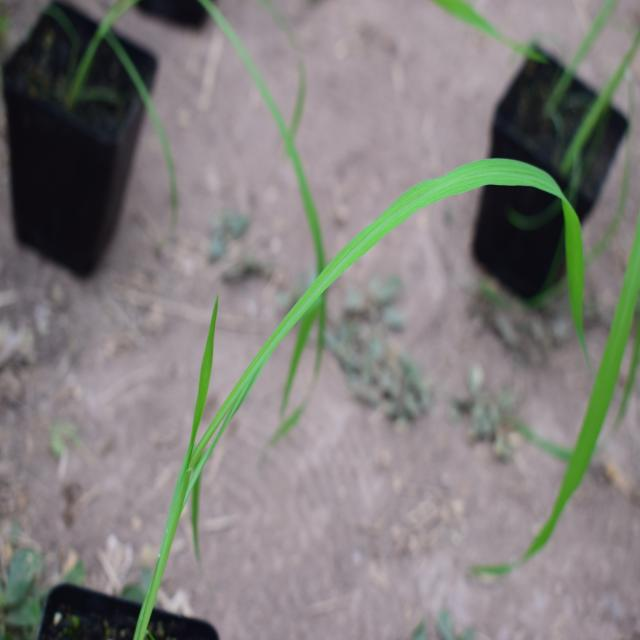barnyard_grass: (121, 145, 588, 575)
